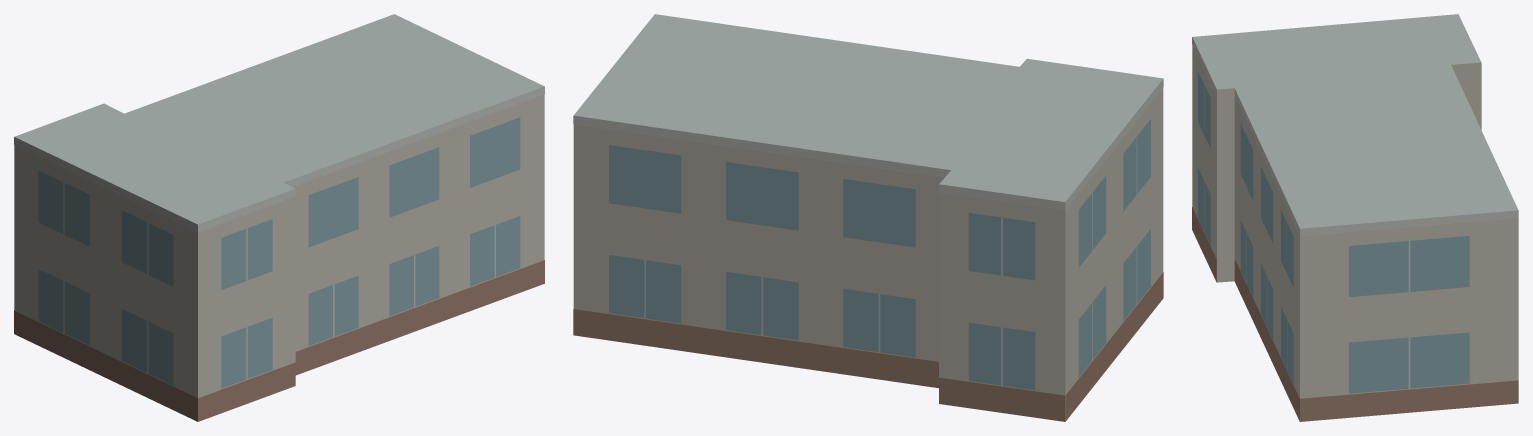
Rendered from survey-upis-32583658.glb.
The picture shows the model from 3 angles, left to right: view 1: azimuth 30°, elevation 25°; view 2: azimuth 150°, elevation 25°; view 3: azimuth 270°, elevation 25°; orthographic projection. The views are drawn at different scales.
Parts seen in each view (by area): view 1: survey-upis-32583658.tmp; view 2: survey-upis-32583658.tmp; view 3: survey-upis-32583658.tmp.
Boxes of the visible parts, left/top/right/bottom form: survey-upis-32583658.tmp: left=14, top=14, right=544, bottom=421; survey-upis-32583658.tmp: left=573, top=14, right=1163, bottom=421; survey-upis-32583658.tmp: left=1192, top=14, right=1518, bottom=421.
Size of the model in its own units: 14.56 by 6.1 by 9.35.
